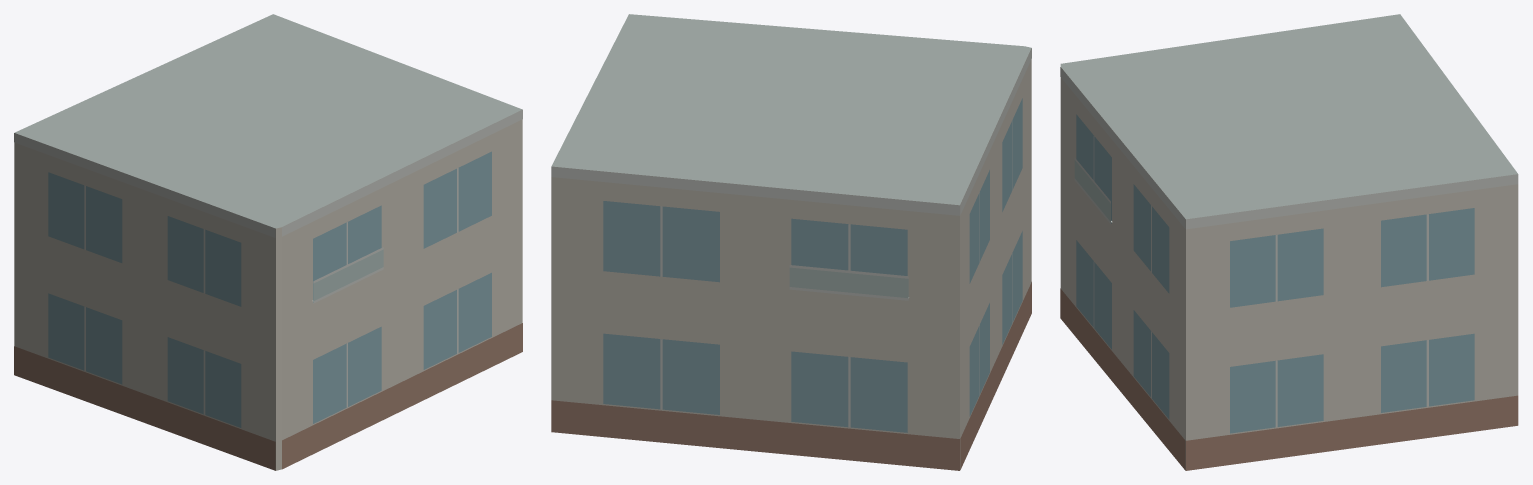
File: survey-upis-32899593.glb
The picture shows the model from 3 angles, left to right: view 1: azimuth 30°, elevation 25°; view 2: azimuth 150°, elevation 25°; view 3: azimuth 270°, elevation 25°; orthographic projection. The views are drawn at different scales.
Visible parts, largest first — view 1: survey-upis-32899593.tmp; view 2: survey-upis-32899593.tmp; view 3: survey-upis-32899593.tmp.
Part boxes in pixels (bbox=[...]): survey-upis-32899593.tmp: bbox=[14, 14, 522, 470]; survey-upis-32899593.tmp: bbox=[551, 14, 1031, 470]; survey-upis-32899593.tmp: bbox=[1060, 14, 1518, 470].
Size of the model in its own units: 10.69 by 6.1 by 10.07.
